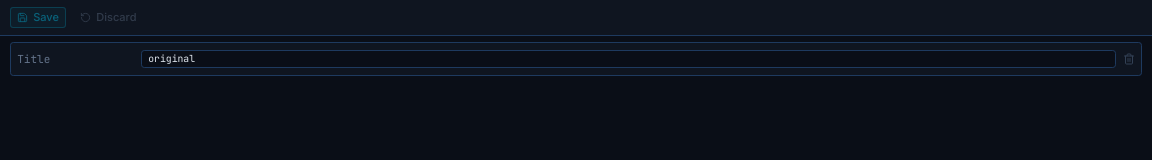
Test: failed writes create no undo entry
Replace the text in the field with "edited": (629,59) [141,50,1116,68]
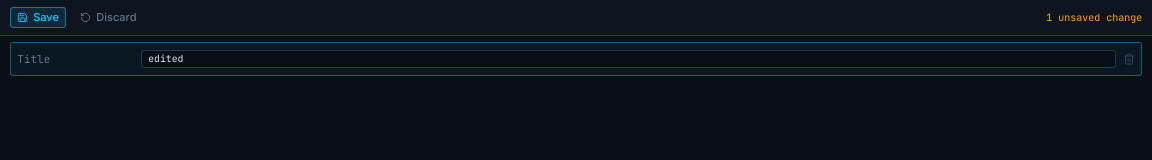
Click the button "Save": (38,17) [10,6,66,28]
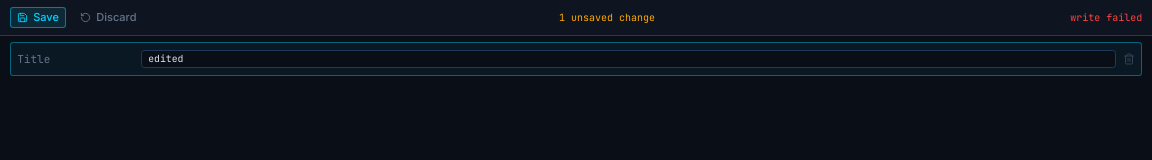
Result: the text "write failed" is shown at [1070,10,1142,25]
